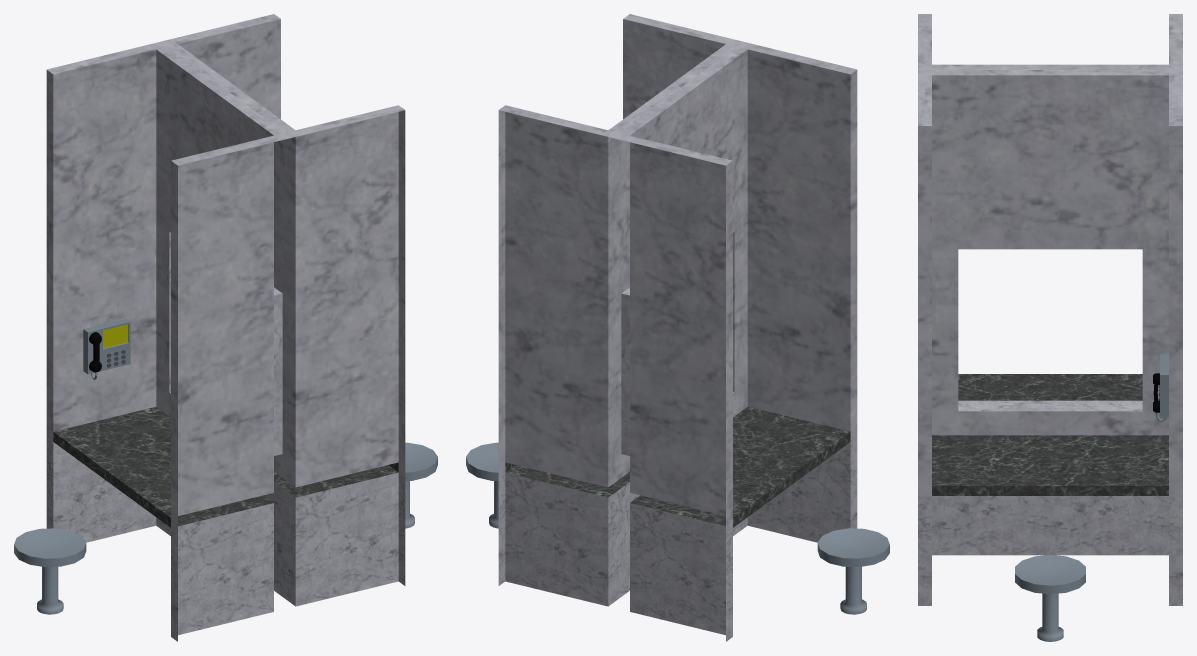
Rendered from visitation_booth.fbx.
3 renders of one model, left to right at view 1: azimuth 30°, elevation 25°; view 2: azimuth 150°, elevation 25°; view 3: azimuth 270°, elevation 25°, orthographic.
Parts seen in each view (by area): view 1: visitation_booth; view 2: visitation_booth; view 3: visitation_booth.
Part boxes in pixels (left/top/right/bottom): visitation_booth: left=14, top=14, right=437, bottom=641; visitation_booth: left=466, top=14, right=889, bottom=641; visitation_booth: left=918, top=14, right=1182, bottom=641.
Size of the model in its own units: 364 by 400 by 200.
Materials: 1 (1 with a texture image).
